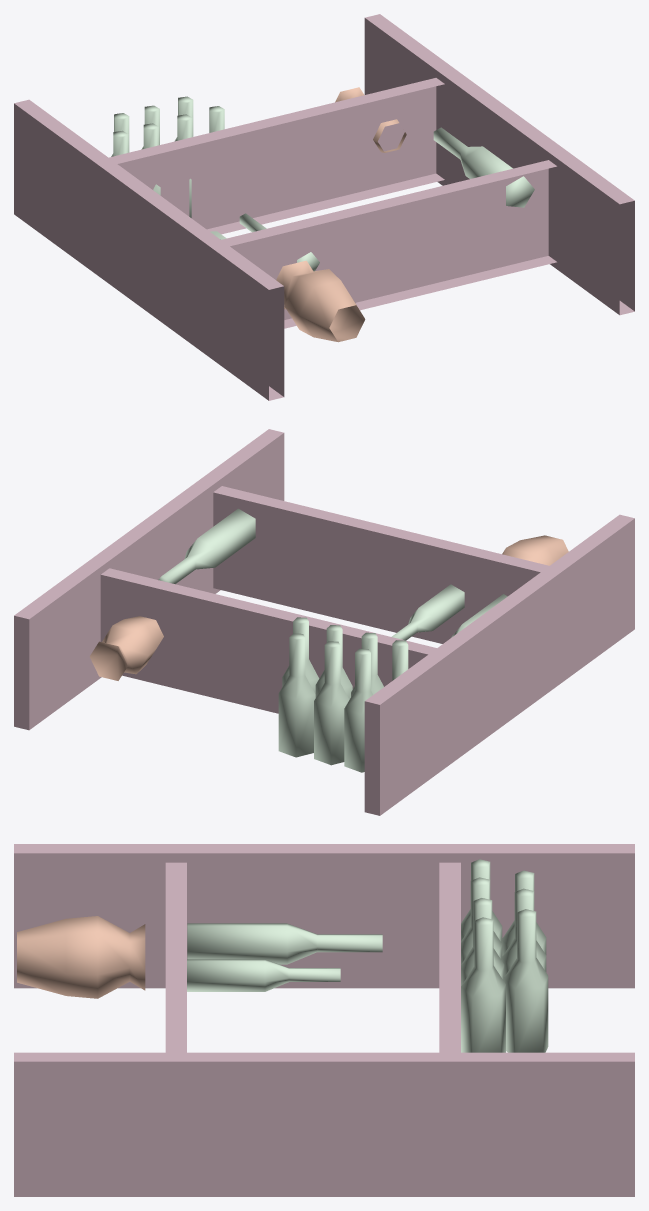
The picture shows the model from 3 angles, top to bottom: view 1: azimuth 30°, elevation 25°; view 2: azimuth 150°, elevation 25°; view 3: azimuth 270°, elevation 25°; orthographic projection. The views are drawn at different scales.
Visible parts, largest first — view 1: Object51; view 2: Object51; view 3: Object51.
Boxes of the visible parts, x1=… form: Object51: x1=14, y1=14, x2=634, y2=400; Object51: x1=14, y1=429, x2=634, y2=815; Object51: x1=14, y1=844, x2=634, y2=1196.
Bounding box in the file's own units: 16018 × 4852 × 19328.
